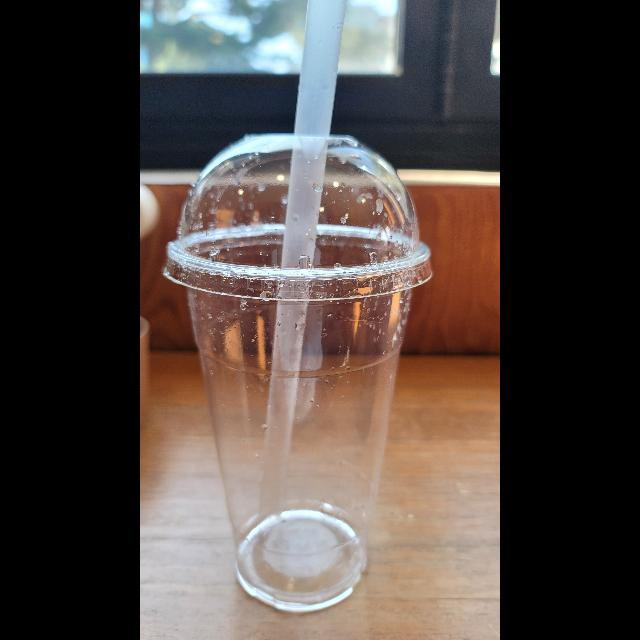plastic_cup: (162, 130, 434, 608)
plastic_cup_lid: (164, 130, 440, 302)
straw: (257, 1, 349, 512)
